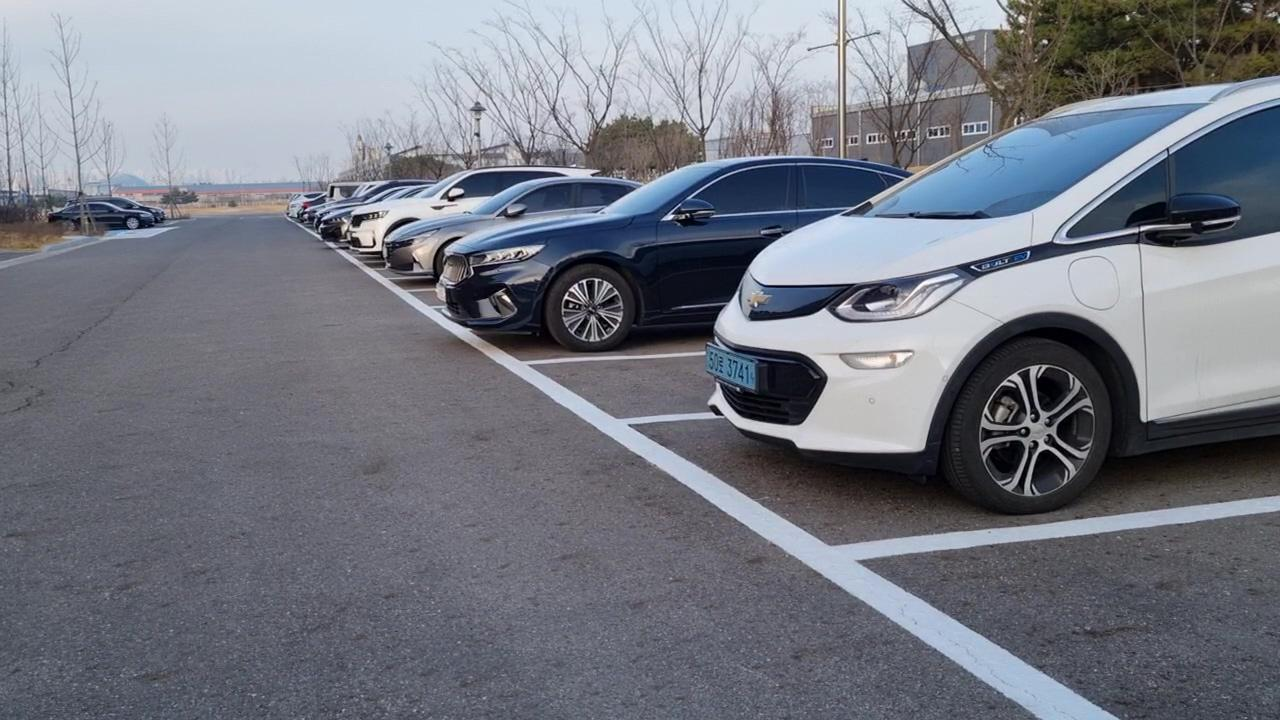empty: (493, 288, 695, 436)
occupied: (640, 117, 1263, 552), (428, 187, 738, 360)
